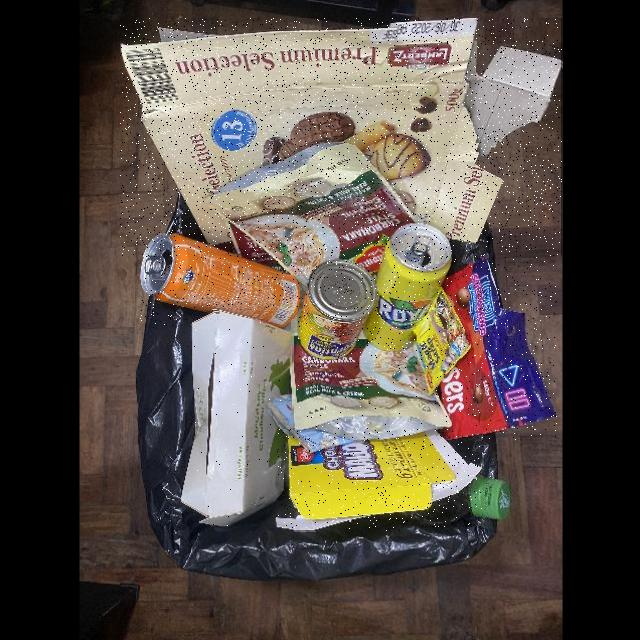metal: (141, 235, 301, 328), (363, 225, 451, 351), (298, 260, 377, 360)
paper: (121, 18, 562, 257), (181, 309, 293, 526), (277, 429, 483, 531)
wrapper: (203, 143, 420, 289), (436, 252, 557, 440), (291, 309, 452, 440), (415, 287, 471, 396)
